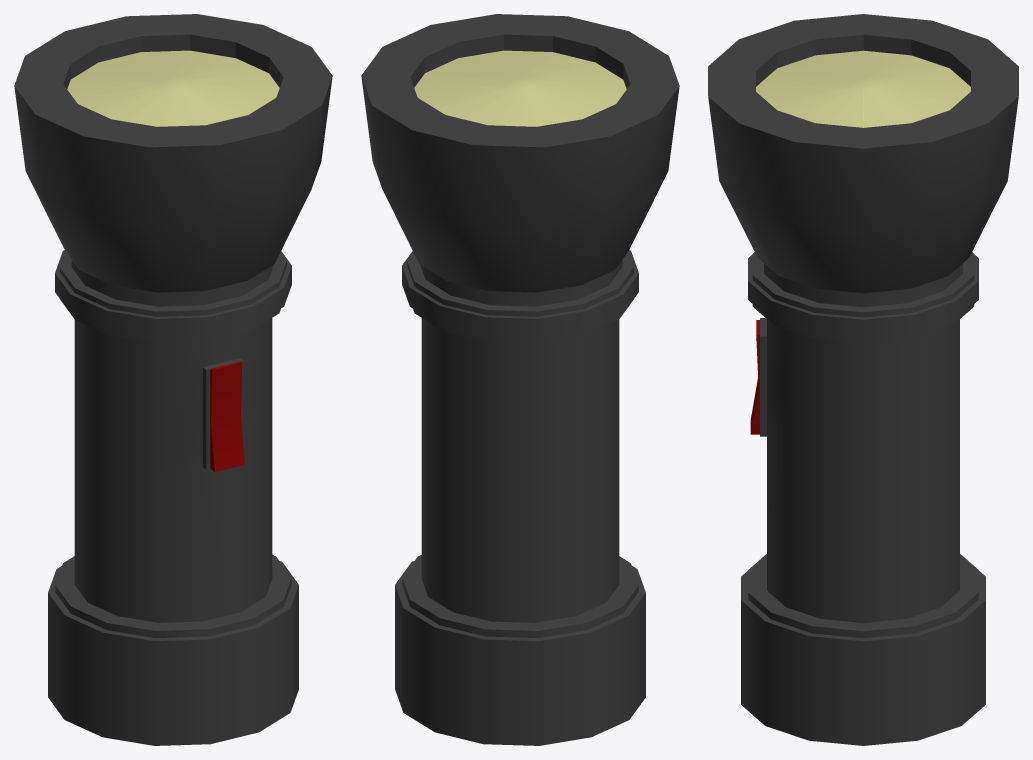
Rendered from FlashLight.fbx.
3 renders of one model, left to right at view 1: azimuth 30°, elevation 25°; view 2: azimuth 150°, elevation 25°; view 3: azimuth 270°, elevation 25°, orthographic.
Visible parts, largest first — view 1: pCylinder5; view 2: pCylinder5; view 3: pCylinder5.
Part boxes in pixels (<box>): pCylinder5: <box>14,14,332,745</box>; pCylinder5: <box>361,14,679,745</box>; pCylinder5: <box>708,14,1018,745</box>.
Size of the model in its own units: 0.6653 by 1.41 by 0.6486.
